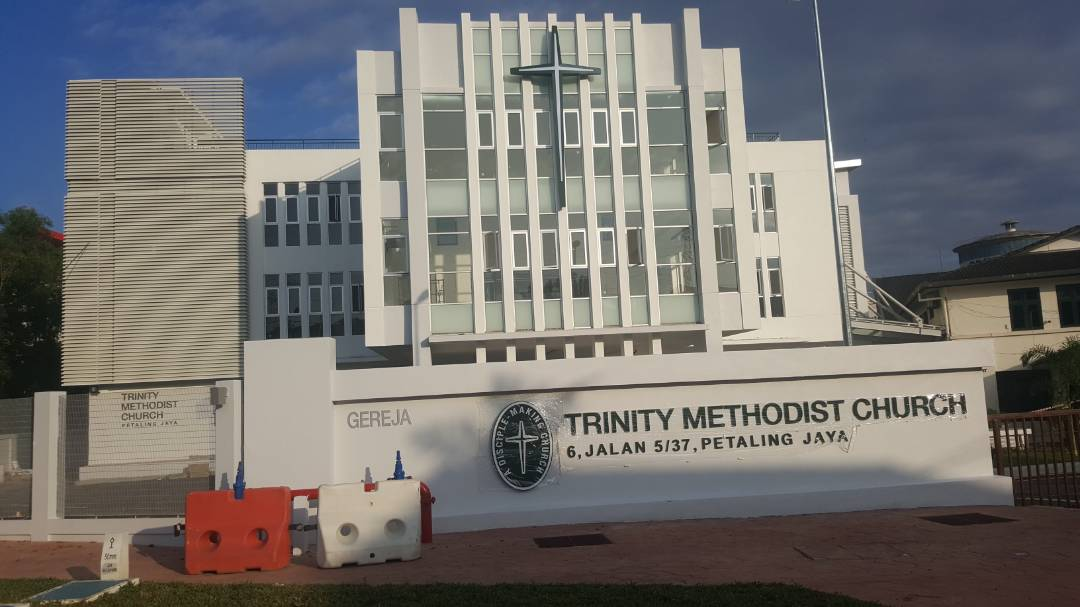Church: (323, 10, 994, 508)
